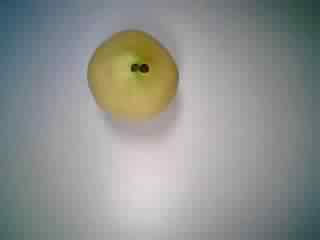pear: (84, 22, 183, 125)
